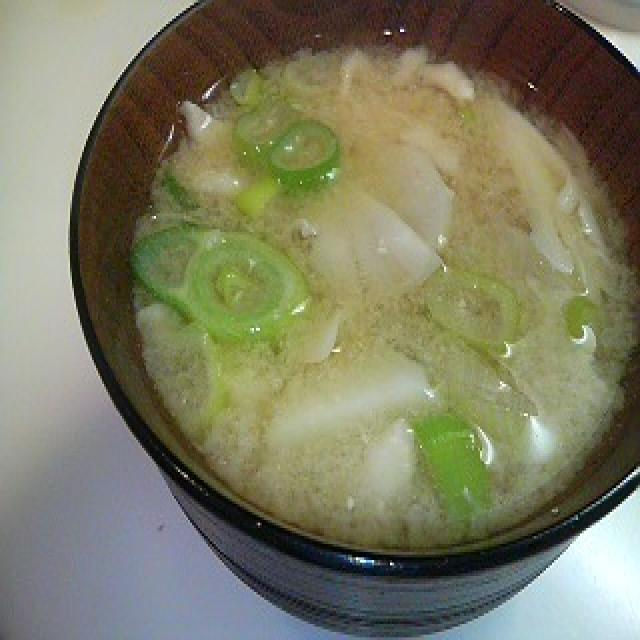汤锅炖物: (74, 0, 640, 640)
